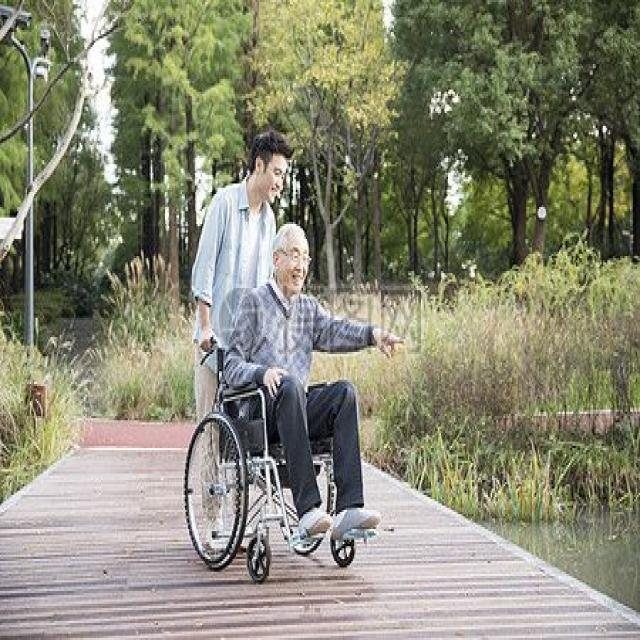wheelchairs: (182, 324, 364, 583)
